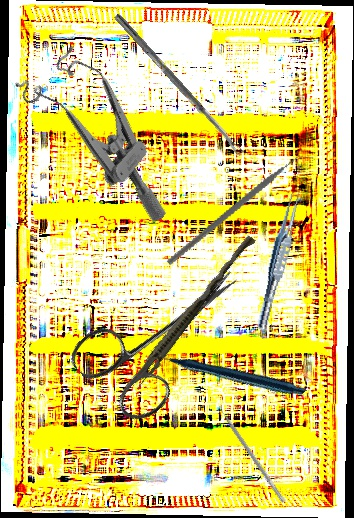Chopper: (165, 122, 316, 299)
Handpiece: (150, 289, 307, 452)
Iris Scissors: (64, 235, 267, 433)
Spatula Surgical: (214, 401, 290, 504)
Speculum: (2, 32, 211, 226)
Surgical Spoon: (112, 12, 245, 158)
Tissue Forceps: (128, 230, 256, 393), (253, 186, 305, 333)
